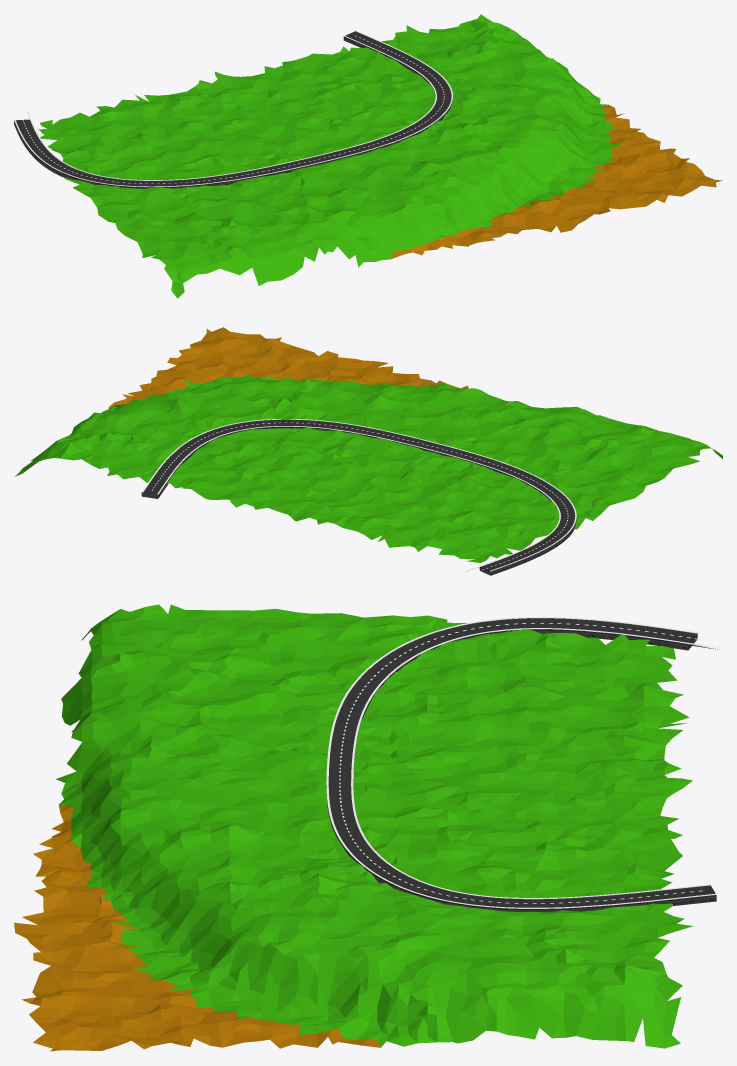
Rendered from Menu realBase.glb.
The picture shows the model from 3 angles, top to bottom: view 1: azimuth 30°, elevation 25°; view 2: azimuth 150°, elevation 25°; view 3: azimuth 270°, elevation 25°; orthographic projection. The views are drawn at different scales.
Parts seen in each view (by area): view 1: Landscape, Cube; view 2: Landscape, Cube; view 3: Landscape, Cube.
Boxes of the visible parts, left/top/right/bottom form: Landscape: left=39, top=14, right=722, bottom=298; Cube: left=14, top=30, right=452, bottom=188; Landscape: left=14, top=327, right=722, bottom=562; Cube: left=141, top=419, right=576, bottom=575; Landscape: left=14, top=604, right=693, bottom=1051; Cube: left=326, top=617, right=717, bottom=912.
Bounding box in the file's own units: 95.46 × 6.09 × 70.2.
